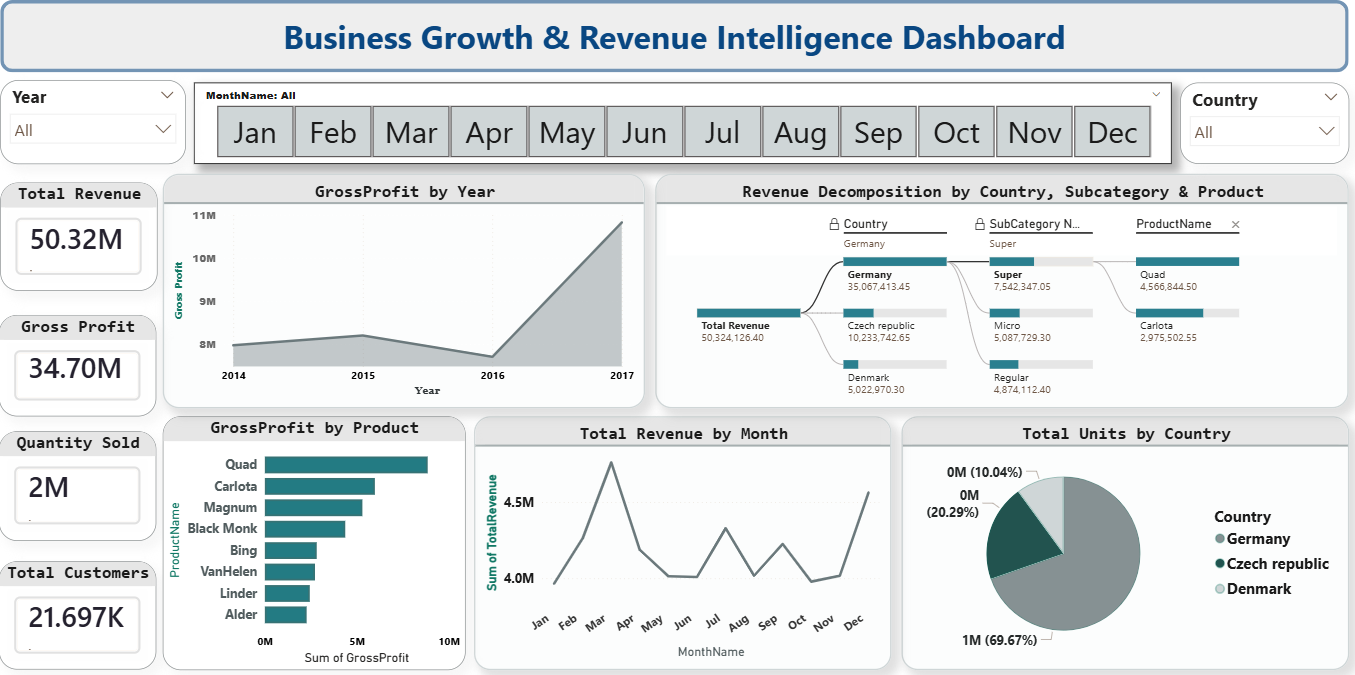

The dashboard page shown, as its layout file describes it:
{"tool":"powerbi","page":{"name":"Page 3","canvas":[1600,1000],"ordinal":2},"visuals":[{"type":"cardVisual","title":"Gross Profit","fields":{"Data":["Sum(Sales.GrossProfit)"]},"box":[0,364.9,182.4,117.6],"z":0},{"type":"cardVisual","title":"Total  Revenue","fields":{"Data":["Sum(Sales.TotalRevenue)"]},"box":[1.4,212.2,182.4,125.7],"z":1000},{"type":"slicer","fields":{"Values":["SaleCal.MonthName"]},"box":[225.7,95.9,1133.8,94.6],"z":2000},{"type":"pieChart","title":"Total Units by Country","fields":{"Y":["Sum(Sales.Units)"],"Category":["Geography.Country"]},"box":[1045.9,482.4,518.9,294.6],"z":3000},{"type":"cardVisual","title":"Quantity Sold","fields":{"Data":["Sum(Sales.Units)"]},"box":[0,500,182.4,127],"z":4000},{"type":"cardVisual","title":"Total  Customers","fields":{"Data":["CountNonNull(Sales.Customer_Id)"]},"box":[0,651.4,182.4,125.7],"z":5000},{"type":"lineChart","title":" Total Revenue by Month","fields":{"Y":["Sum(Sales.TotalRevenue)"],"Category":["SaleCal.MonthName"]},"box":[551.4,482.4,483.8,294.6],"z":6000},{"type":"decompositionTreeVisual","title":"Revenue Decomposition by Country, Subcategory & Product","fields":{"Analyze":["Sum(Sales.TotalRevenue)"],"ExplainBy":["Geography.Country","SubCategory.SubCategory Name","Product.ProductName"]},"box":[760.8,201.4,804.1,271.6],"z":7000},{"type":"slicer","fields":{"Values":["SaleCal.Year"]},"box":[1.4,93.2,214.9,97.3],"z":8000},{"type":"clusteredBarChart","title":"GrossProfit by Product","fields":{"Category":["Product.ProductName"],"Y":["Sum(Sales.GrossProfit)"]},"box":[190.5,482.4,351.4,294.6],"z":9000},{"type":"areaChart","title":" GrossProfit by Year","fields":{"Category":["SaleCal.Year"],"Y":["Sum(Sales.GrossProfit)"]},"box":[190.5,201.4,559.5,271.6],"z":10000},{"type":"shape","box":[1.4,0,1563.5,83.8],"z":11000},{"type":"slicer","fields":{"Values":["Geography.Country"]},"box":[1368.9,95.9,195.9,94.6],"z":12000}]}

Visuals, with their boxes on the page's 1600x1000 design canvas (x1, y1, x2, y2). These are canvas units, not pixel positions in the 1355x675 screenshot, which may show the page scaled, cropped or inside an application window:
"Gross Profit" cardVisual: 0,365,182,482
"Total  Revenue" cardVisual: 1,212,184,338
slicer - SaleCal.MonthName: 226,96,1360,190
"Total Units by Country" pieChart: 1046,482,1565,777
"Quantity Sold" cardVisual: 0,500,182,627
"Total  Customers" cardVisual: 0,651,182,777
" Total Revenue by Month" lineChart: 551,482,1035,777
"Revenue Decomposition by Country, Subcategory & Product" decompositionTreeVisual: 761,201,1565,473
slicer - SaleCal.Year: 1,93,216,190
"GrossProfit by Product" clusteredBarChart: 190,482,542,777
" GrossProfit by Year" areaChart: 190,201,750,473
shape: 1,0,1565,84
slicer - Geography.Country: 1369,96,1565,190
